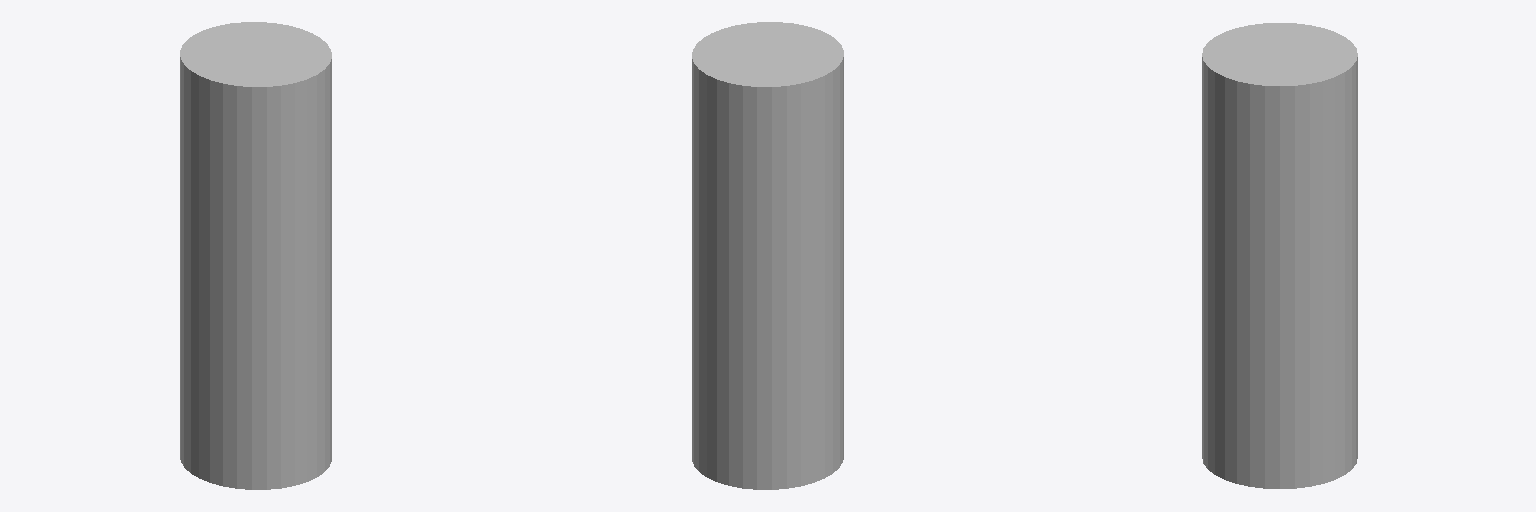
Rendered from player_mesh.obj.
3 renders of one model, left to right at view 1: azimuth 30°, elevation 25°; view 2: azimuth 150°, elevation 25°; view 3: azimuth 270°, elevation 25°, orthographic.
Parts seen in each view (by area): view 1: Cylinder; view 2: Cylinder; view 3: Cylinder.
Boxes of the visible parts, box(x1,y1,x2,y2) form: Cylinder: box(180, 22, 331, 489); Cylinder: box(692, 22, 843, 489); Cylinder: box(1202, 23, 1357, 488).
Bounding box in the file's own units: 0.6796 × 2 × 0.7017.